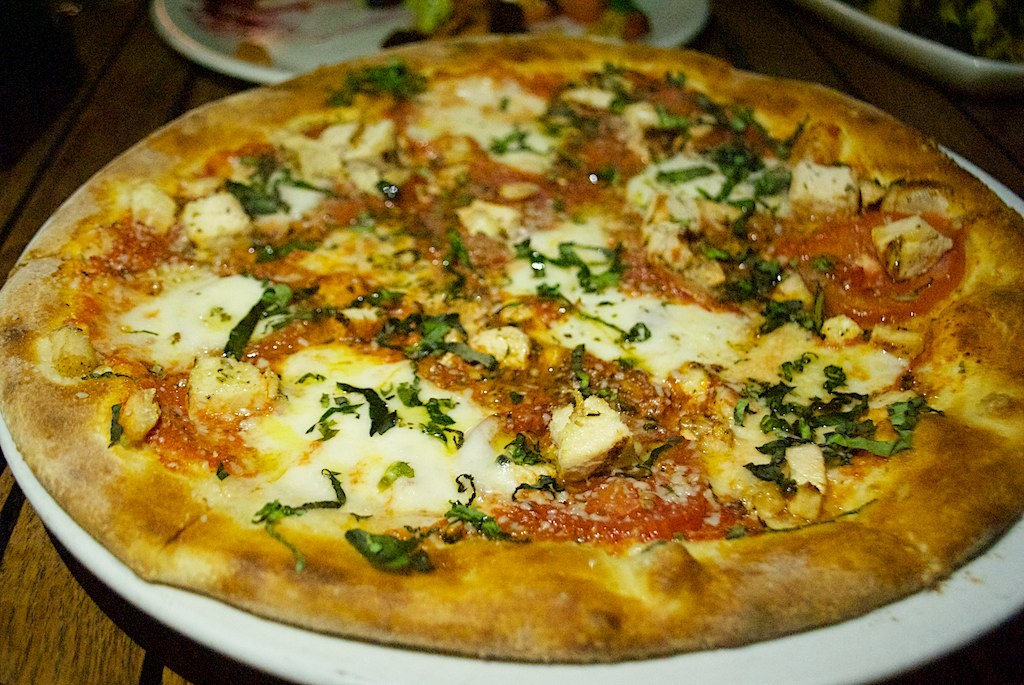Pizza: (5, 30, 1024, 674)
